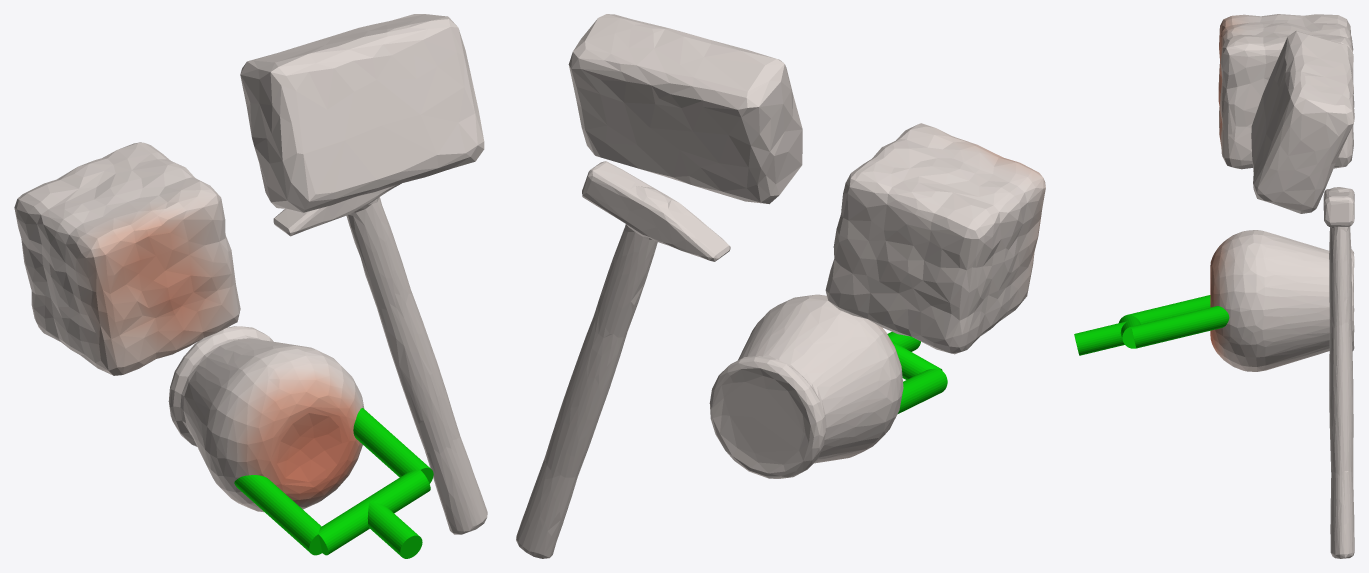
File: round_000_trial_002.obj
3 views of the same model, side by side, from view 1: azimuth 30°, elevation 25°; view 2: azimuth 150°, elevation 25°; view 3: azimuth 270°, elevation 25° (orthographic). The views are drawn at different scales.
Parts seen in each view (by area): view 1: geometry_0, geometry_1; view 2: geometry_0, geometry_1; view 3: geometry_0, geometry_1.
Part boxes in pixels (x1,y1,x2,y2): geometry_0: (14, 14, 487, 534); geometry_1: (234, 408, 433, 558); geometry_0: (516, 14, 1045, 558); geometry_1: (887, 332, 947, 413); geometry_0: (1210, 14, 1354, 558); geometry_1: (1074, 295, 1229, 355).
Bounding box in the file's own units: 0.1986 × 0.2184 × 0.1244.
